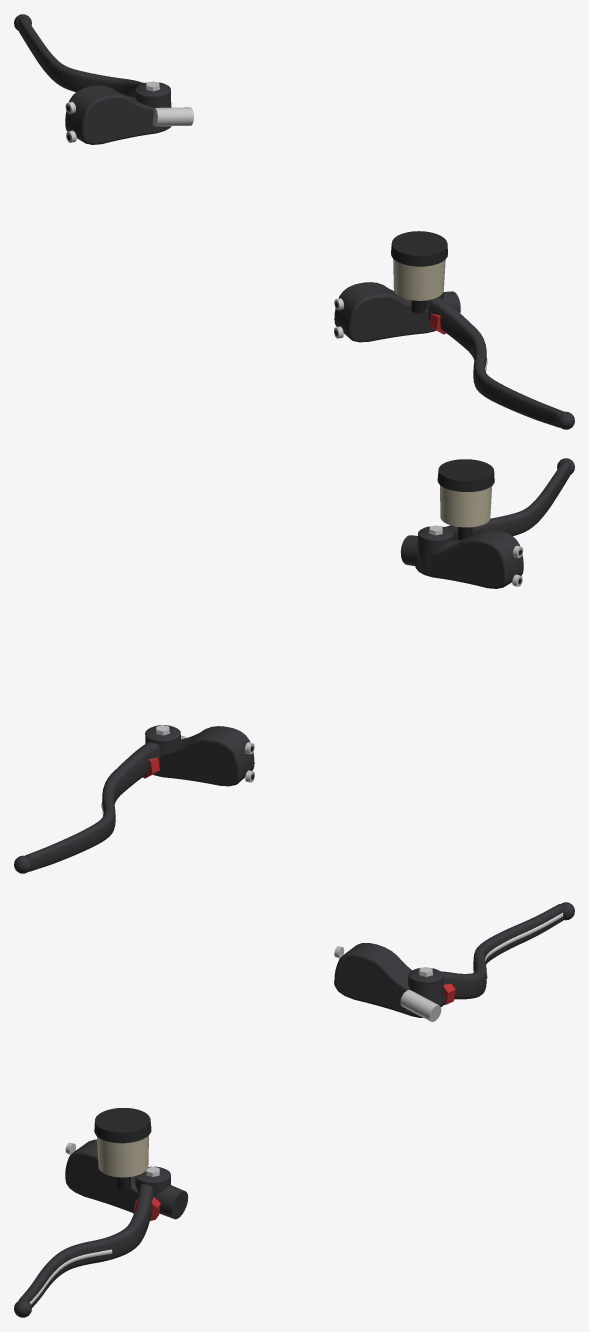
Rendered from standard.glb.
3 renders of one model, top to bottom at view 1: azimuth 30°, elevation 25°; view 2: azimuth 150°, elevation 25°; view 3: azimuth 330°, elevation 25°, orthographic.
Visible parts, largest first — view 1: levers_standard; view 2: levers_standard; view 3: levers_standard.
Part boxes in pixels (x1,y1,x2,y2): levers_standard: (14, 14, 574, 429); levers_standard: (14, 458, 574, 873); levers_standard: (14, 902, 574, 1317).
Size of the model in its own units: 0.0937 by 0.0821 by 0.7713.
